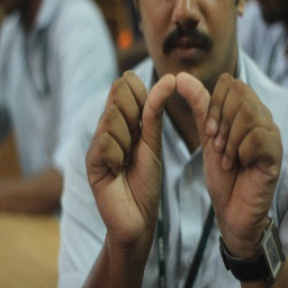A: (95, 62, 256, 197)
